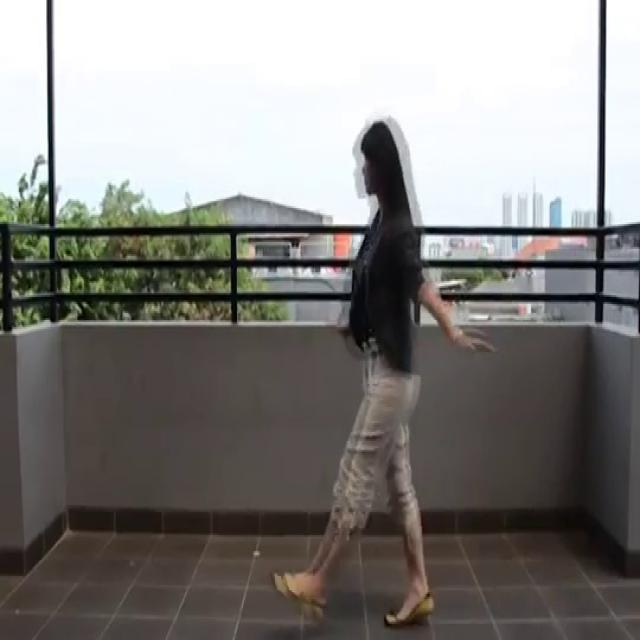normal: (274, 105, 475, 619)
